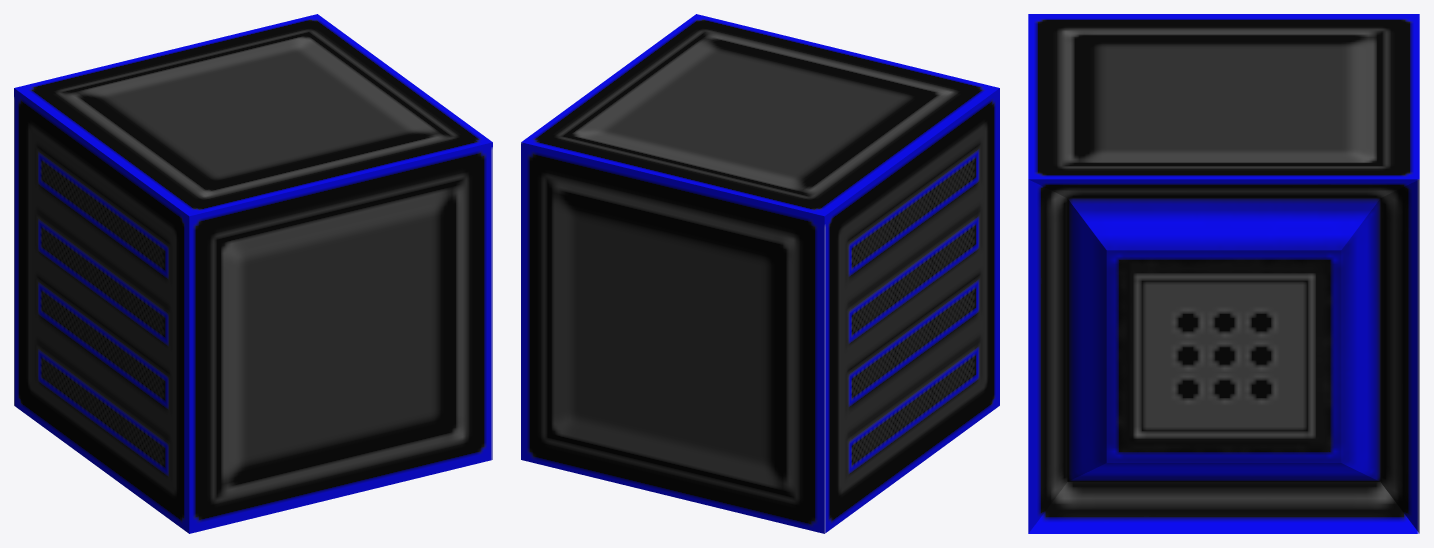
The model's file is injector.obj.
The picture shows the model from 3 angles, left to right: view 1: azimuth 30°, elevation 25°; view 2: azimuth 150°, elevation 25°; view 3: azimuth 270°, elevation 25°; orthographic projection. The views are drawn at different scales.
Visible parts, largest first — view 1: injector; view 2: injector; view 3: injector.
Part boxes in pixels (x1,y1,x2,y2): injector: (14, 14, 492, 533); injector: (521, 14, 999, 533); injector: (1028, 14, 1419, 533).
Size of the model in its own units: 1 by 1 by 1.
